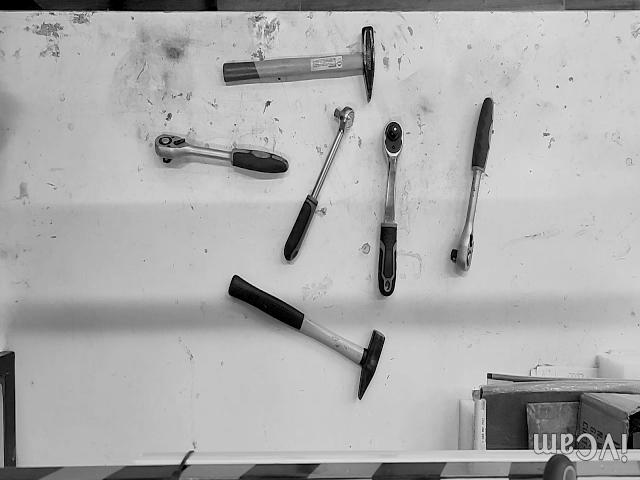Hammer: (229, 275, 385, 400), (222, 27, 375, 102)
Ratchet: (284, 107, 355, 263), (450, 97, 494, 272), (155, 135, 289, 174), (379, 122, 404, 297)
